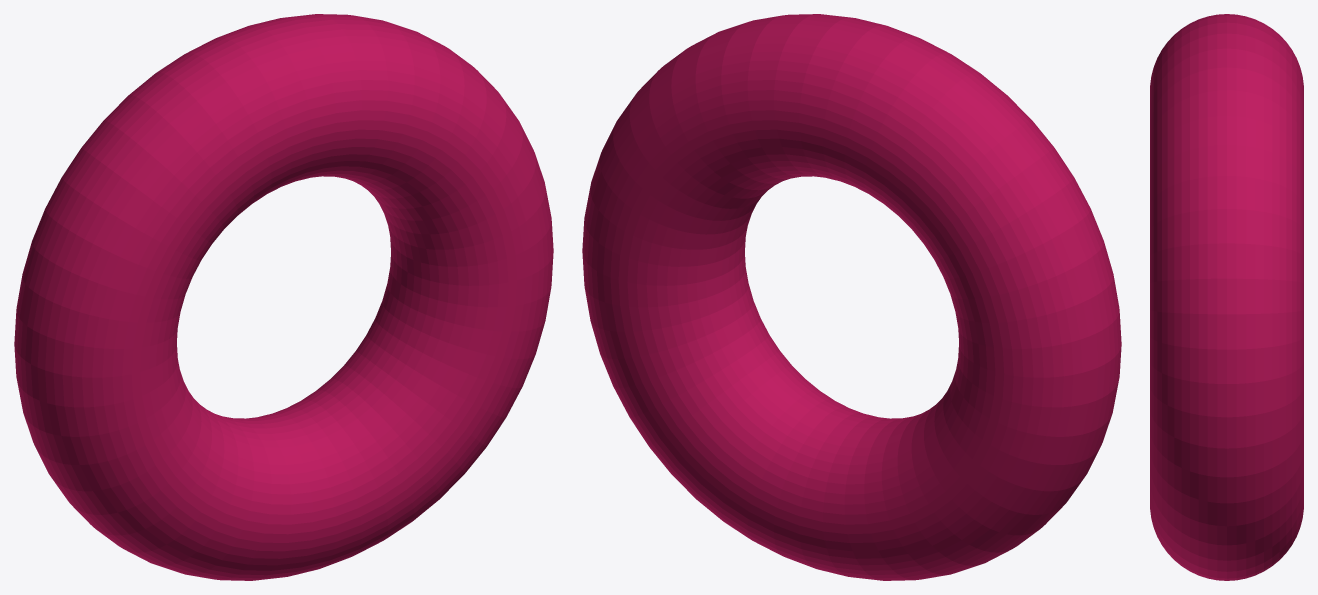
The picture shows the model from 3 angles, left to right: view 1: azimuth 30°, elevation 25°; view 2: azimuth 150°, elevation 25°; view 3: azimuth 270°, elevation 25°; orthographic projection. The views are drawn at different scales.
Visible parts, largest first — view 1: world; view 2: world; view 3: world.
Part boxes in pixels (x1=…): world: x1=14, y1=14, x2=553, y2=580; world: x1=582, y1=14, x2=1121, y2=580; world: x1=1150, y1=14, x2=1303, y2=580.
Bounding box in the file's own units: 34.8 × 34.73 × 9.45.
